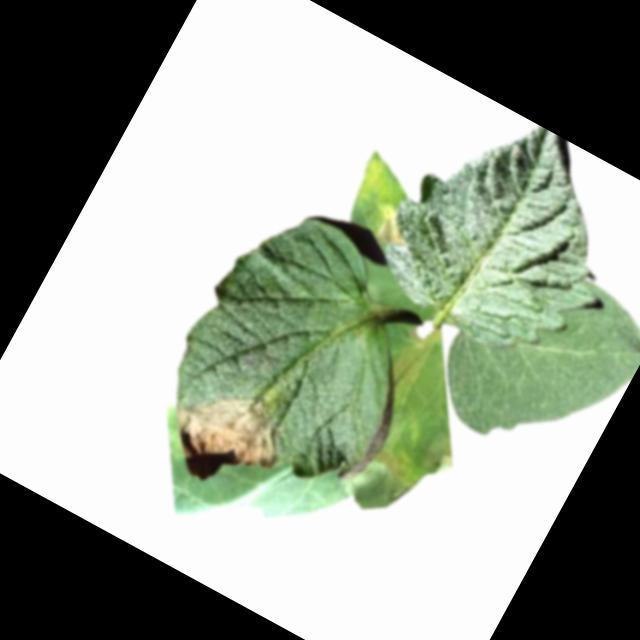Late_blight: (150, 364, 302, 511), (335, 415, 435, 525), (415, 430, 465, 486), (368, 203, 417, 252)
healthy: (362, 85, 640, 378), (418, 235, 640, 487)
